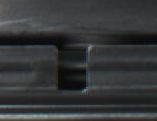oneu: (42, 40, 101, 98)
